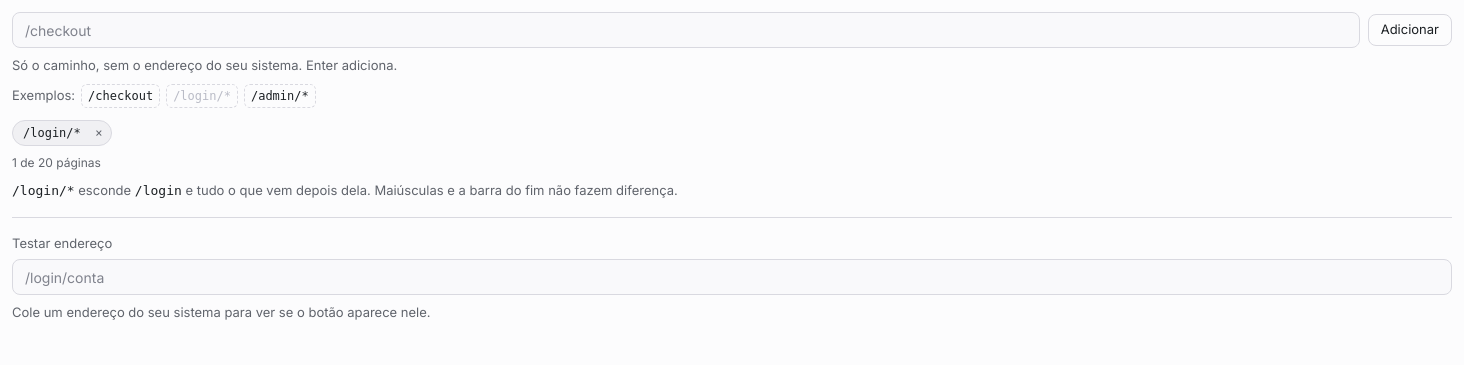
HiddenPagesEditor › testar endereço diz se o botao aparece, e qual pagina o esconde
In the field labelled "Testar endereço": (732, 277) [12,259,1452,295], type "https://loja.com.br/login/conta?volta=1"
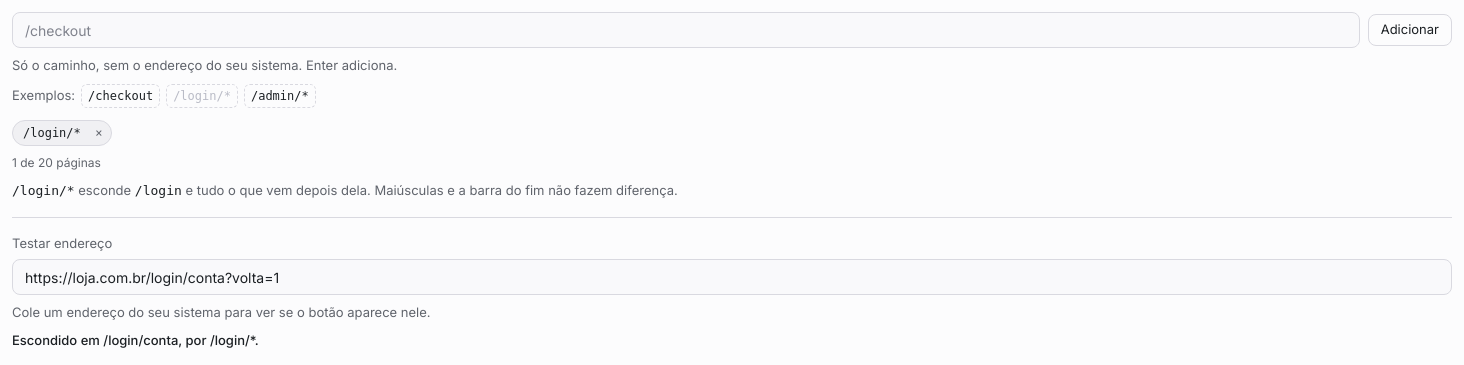
Now the message reads "Escondido em /login/conta, por /login/*.", box [12,332,259,348]
Replace the text in the field labelled "Testar endereço" with "/produtos": (732, 277) [12,259,1452,295]
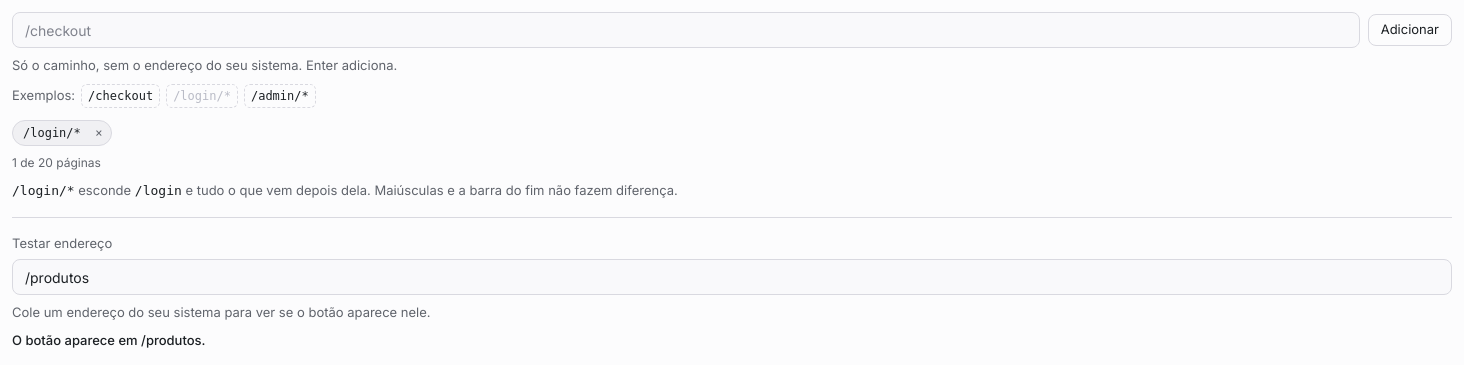
Now the message reads "O botão aparece em /produtos.", box [12,332,206,348]
